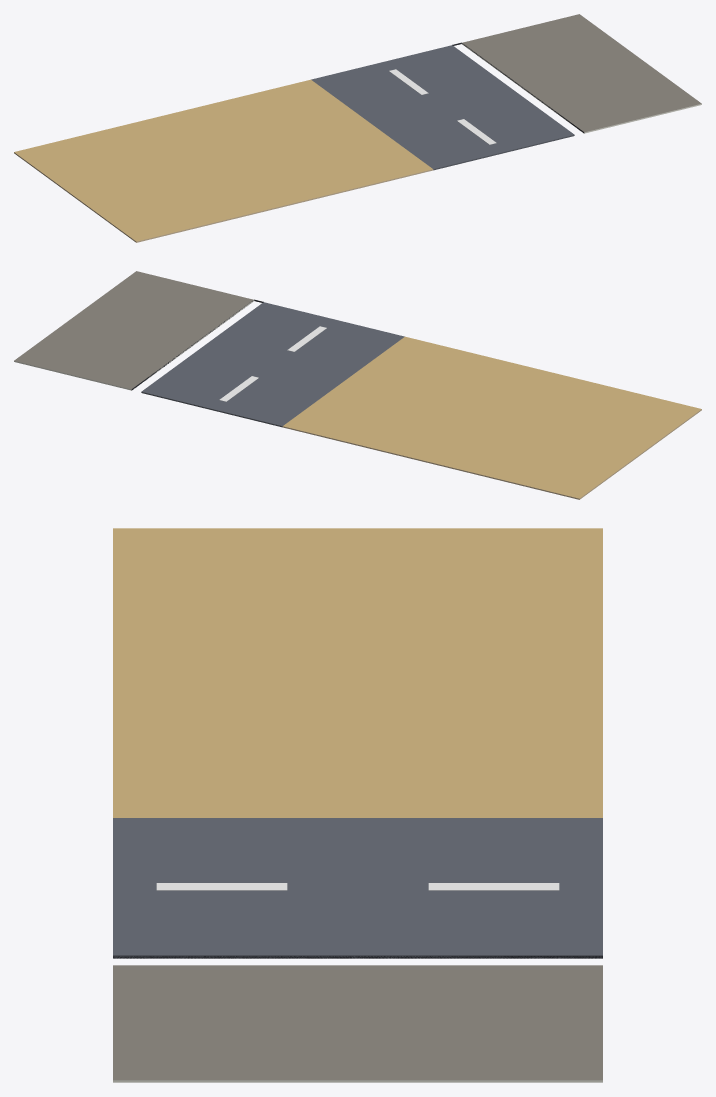
Rendered from costanera_plana.obj.
The picture shows the model from 3 angles, top to bottom: view 1: azimuth 30°, elevation 25°; view 2: azimuth 150°, elevation 25°; view 3: azimuth 270°, elevation 25°; orthographic projection. The views are drawn at different scales.
Visible parts, largest first — view 1: costanera_plana; view 2: costanera_plana; view 3: costanera_plana.
Part boxes in pixels (x1,y1,x2,y2): costanera_plana: (14,14,701,242); costanera_plana: (14,271,701,499); costanera_plana: (113,528,602,1082).
Size of the model in its own units: 24 by 0.06 by 9.
